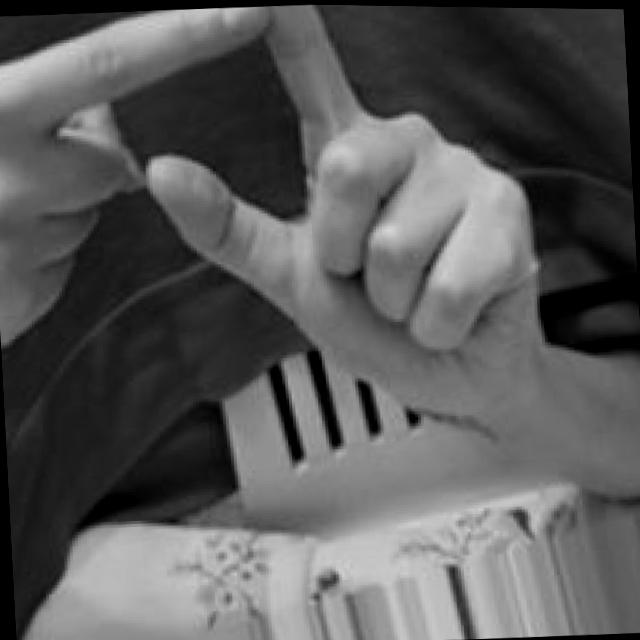J: (0, 0, 543, 455)
